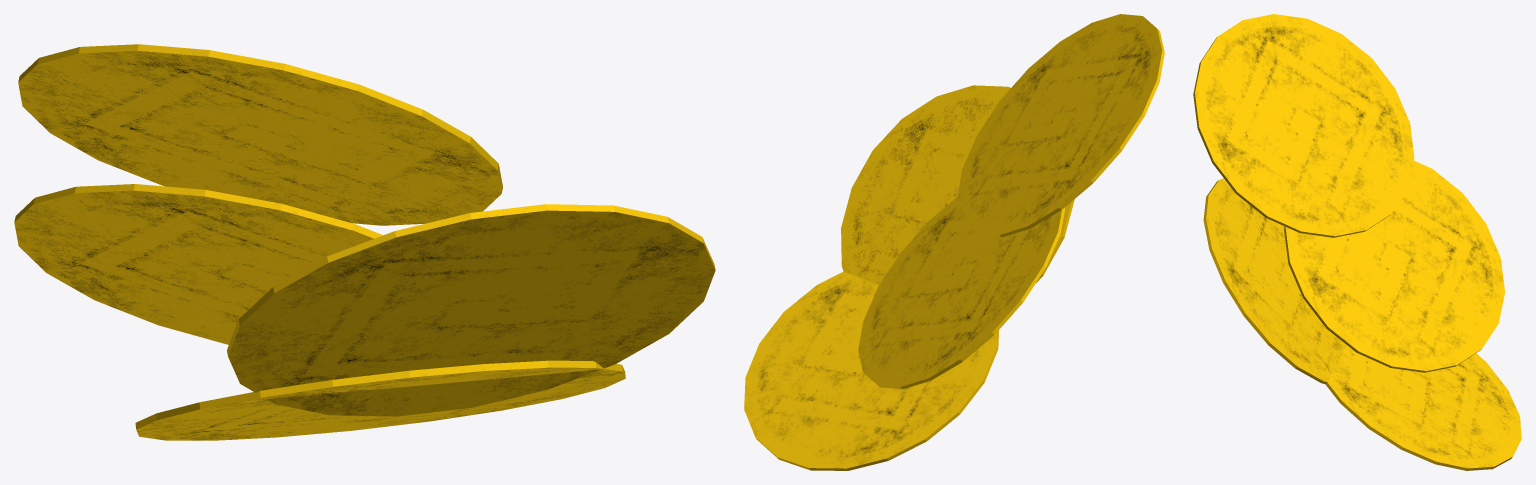
File: Bag Big Coins.fbx
3 renders of one model, left to right at view 1: azimuth 30°, elevation 25°; view 2: azimuth 150°, elevation 25°; view 3: azimuth 270°, elevation 25°, orthographic. The views are drawn at different scales.
Visible parts, largest first — view 1: Bag_Big_Coins_; view 2: Bag_Big_Coins_; view 3: Bag_Big_Coins_.
Part boxes in pixels (x1,y1,x2,y2): Bag_Big_Coins_: [14, 44, 715, 440]; Bag_Big_Coins_: [744, 14, 1164, 470]; Bag_Big_Coins_: [1193, 14, 1521, 470].
Size of the model in its own units: 9.15 by 9.41 by 8.27.
